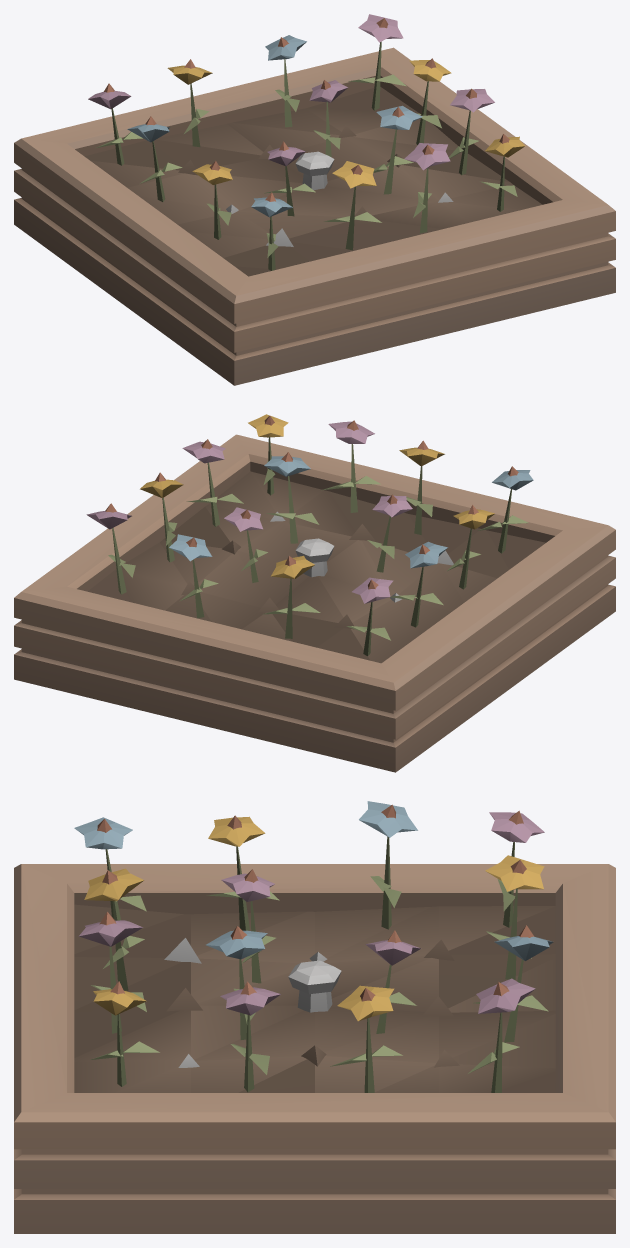
The model's file is bed.glb.
3 views of the same model, one above another, from view 1: azimuth 30°, elevation 25°; view 2: azimuth 150°, elevation 25°; view 3: azimuth 270°, elevation 25° (orthographic). The views are drawn at different scales.
Visible parts, largest first — view 1: bed; view 2: bed; view 3: bed.
Boxes of the visible parts, <box> form: bed: <box>14,14,615,385</box>; bed: <box>14,414,615,772</box>; bed: <box>14,801,615,1233</box>.
Bounding box in the file's own units: 1 × 0.4025 × 1.
